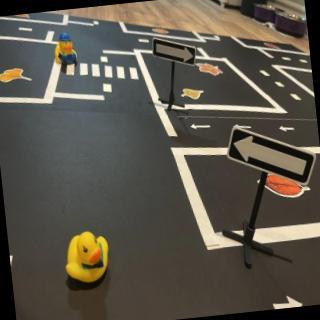duck_regular: (63, 231, 114, 290)
duck_specialty: (52, 30, 79, 67)
road_crosswalk: (63, 55, 142, 91)
sign_oneway_left: (226, 123, 320, 195)
sign_oneway_right: (149, 31, 200, 71)
